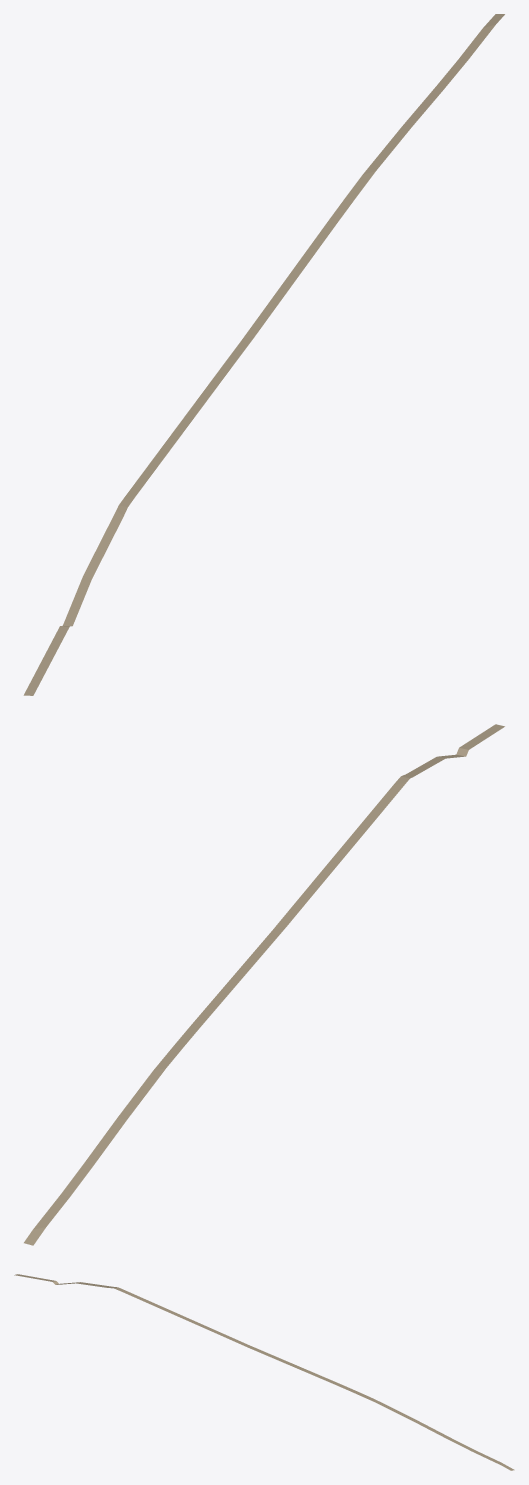
Rendered from farm_-11_6_track.glb.
3 views of the same model, one above another, from view 1: azimuth 30°, elevation 25°; view 2: azimuth 210°, elevation 25°; view 3: azimuth 270°, elevation 25° (orthographic). The views are drawn at different scales.
Visible parts, largest first — view 1: geometry_0; view 2: geometry_0; view 3: geometry_0.
Part boxes in pixels (x1=…): geometry_0: x1=23, y1=14, x2=504, y2=695; geometry_0: x1=24, y1=724, x2=504, y2=1245; geometry_0: x1=14, y1=1274, x2=514, y2=1470.
Size of the model in its own units: 356 by 31.38 by 317.
